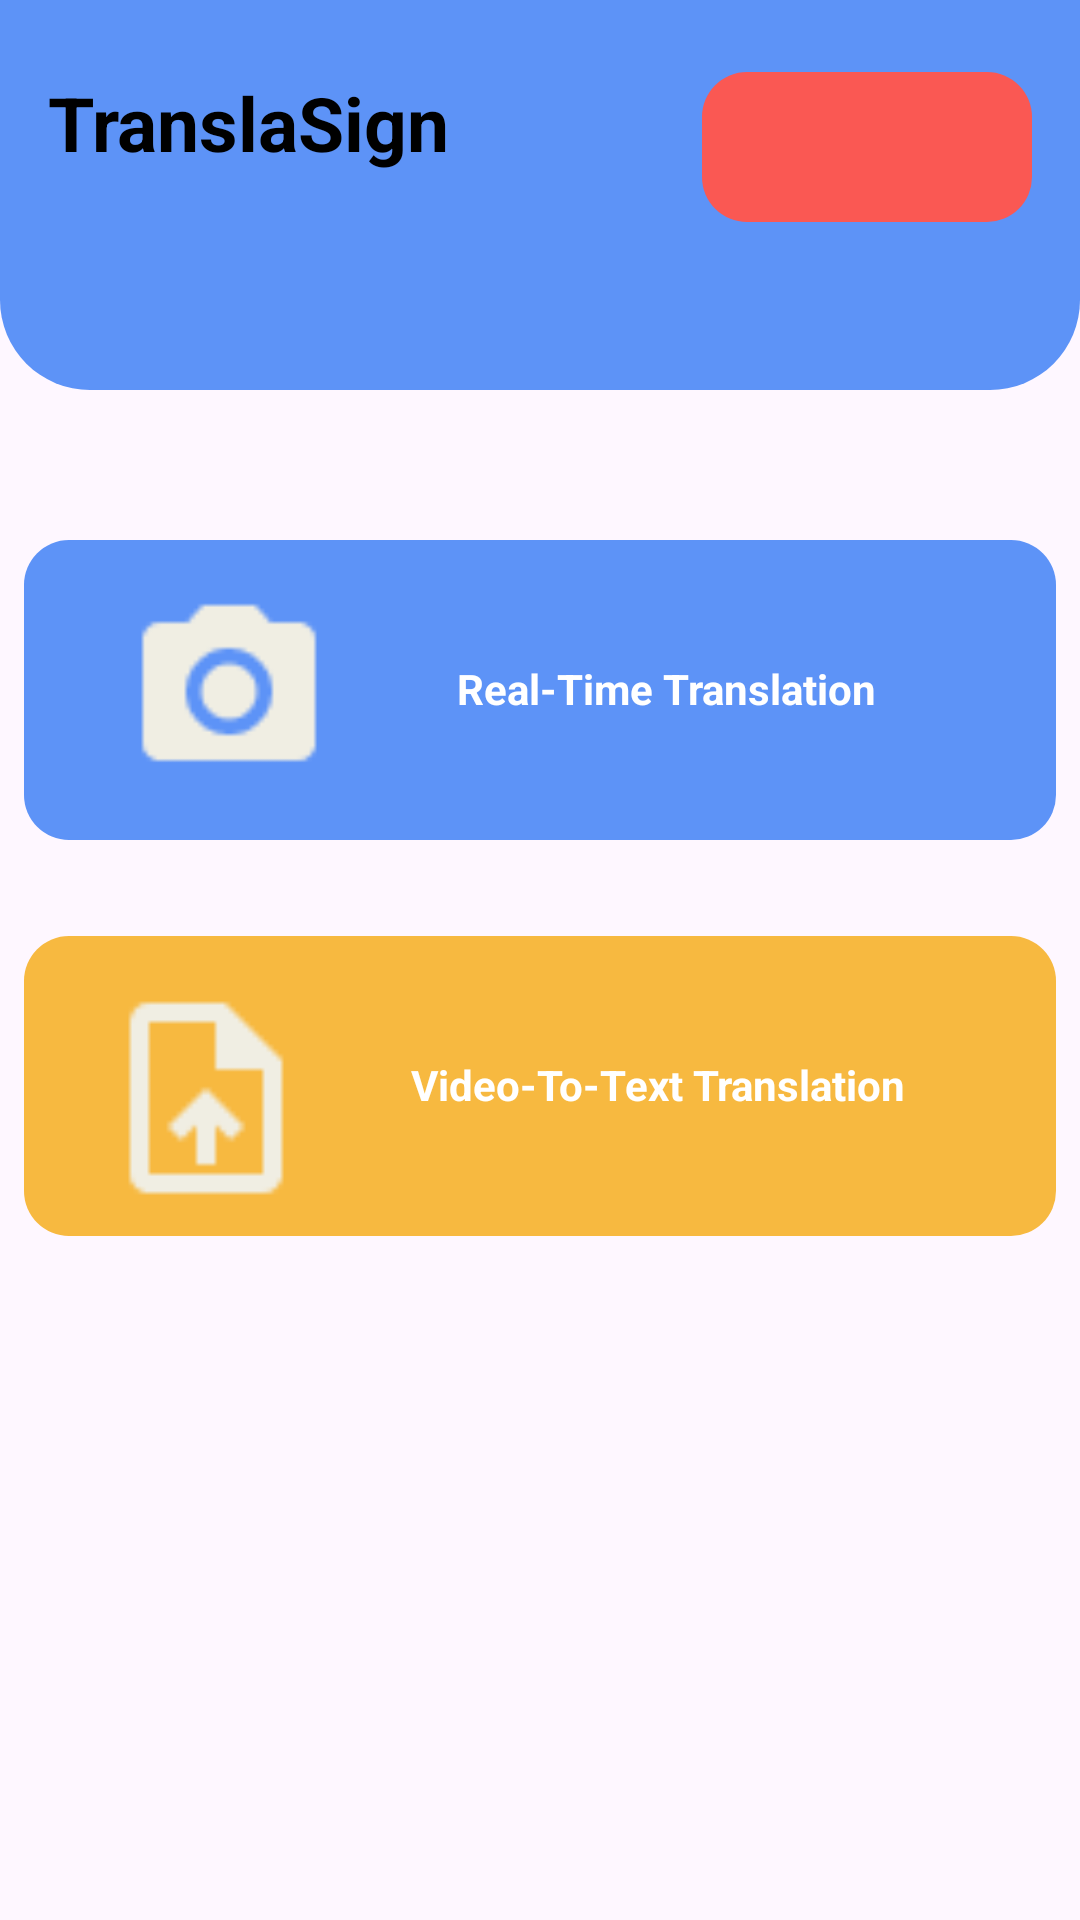

Screen size 1080px×1920px. Icon name, then its box in pixels as (x1, y1, x2, y2):
camera: (141, 604, 317, 762)
upload: (128, 1001, 284, 1195)
